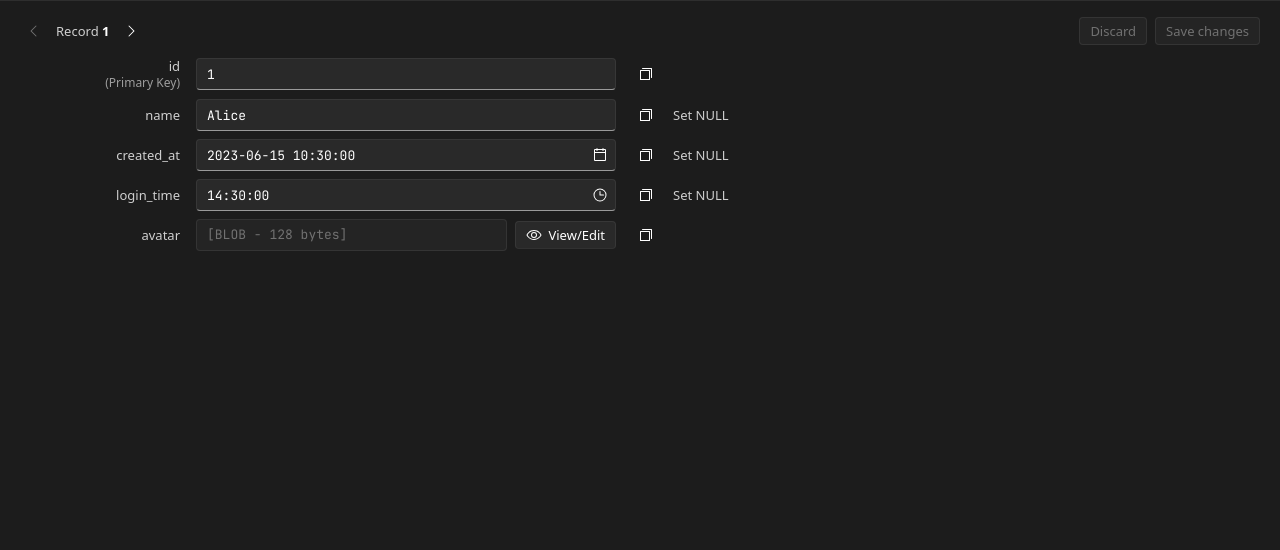
Test: TableDataFormView — DateTimePicker integration › activating NULL toggle closes picker if it was open for that field
The image size is (1280, 550).
Note: Open picker for created_at via the calendar button
Click the button with test id "calendar-btn-created_at": click(600, 155) [586, 141, 614, 169]
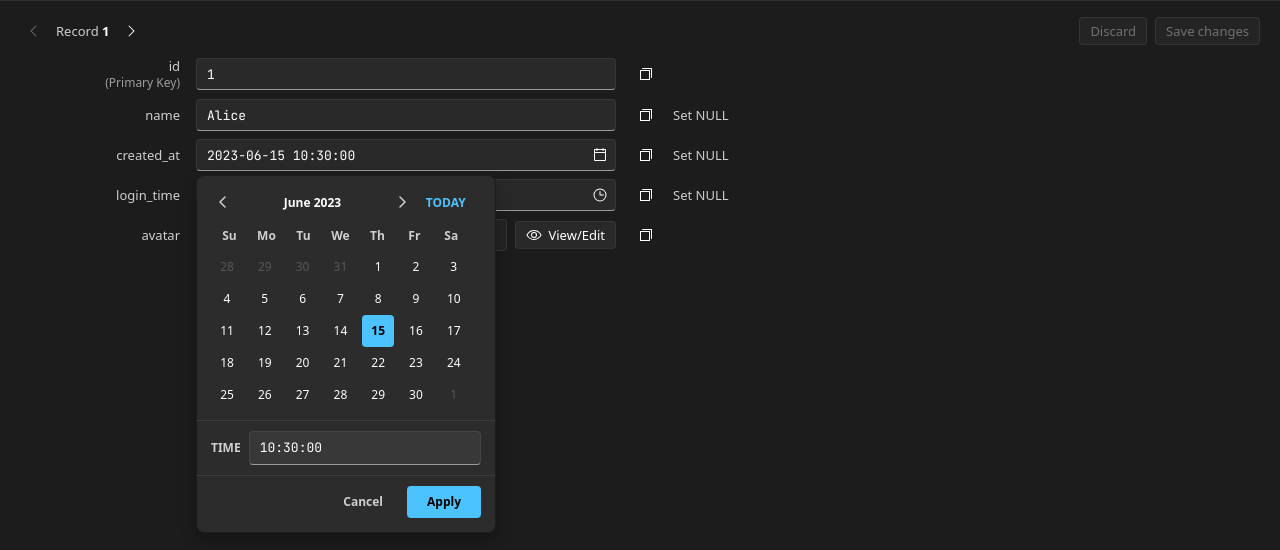
Check: the element with test id "date-time-picker-popup" is shown, box [196, 175, 496, 533]
Note: Click NULL toggle for created_at — this sets the value to null
Click the button with test id "btn-null-created_at": click(701, 155) [662, 141, 740, 169]
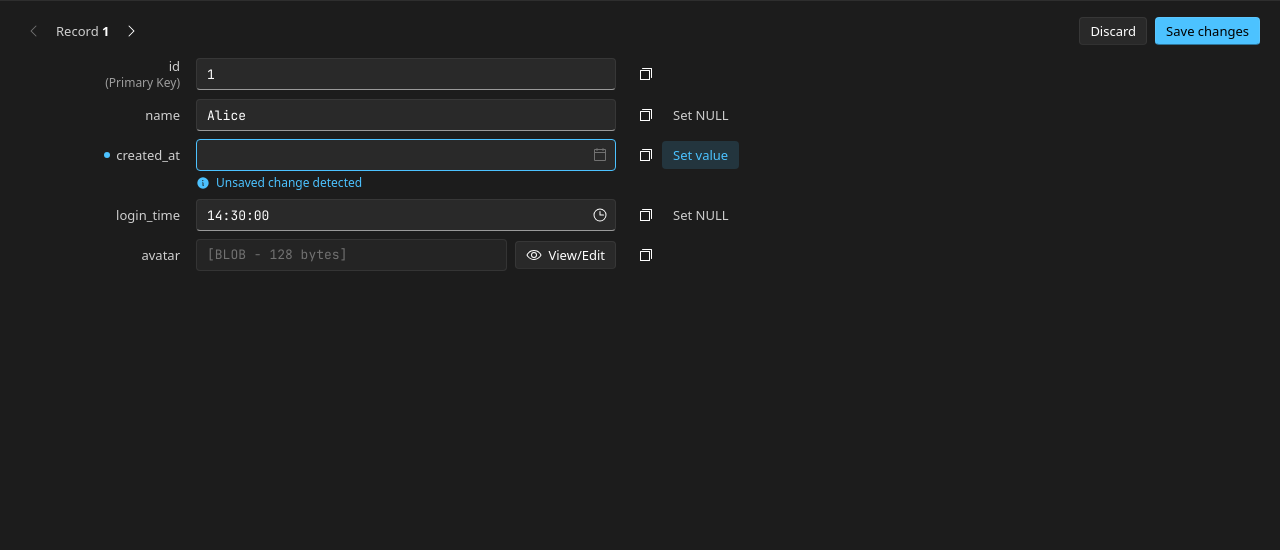
Check: the element with test id "date-time-picker-popup" is gone
